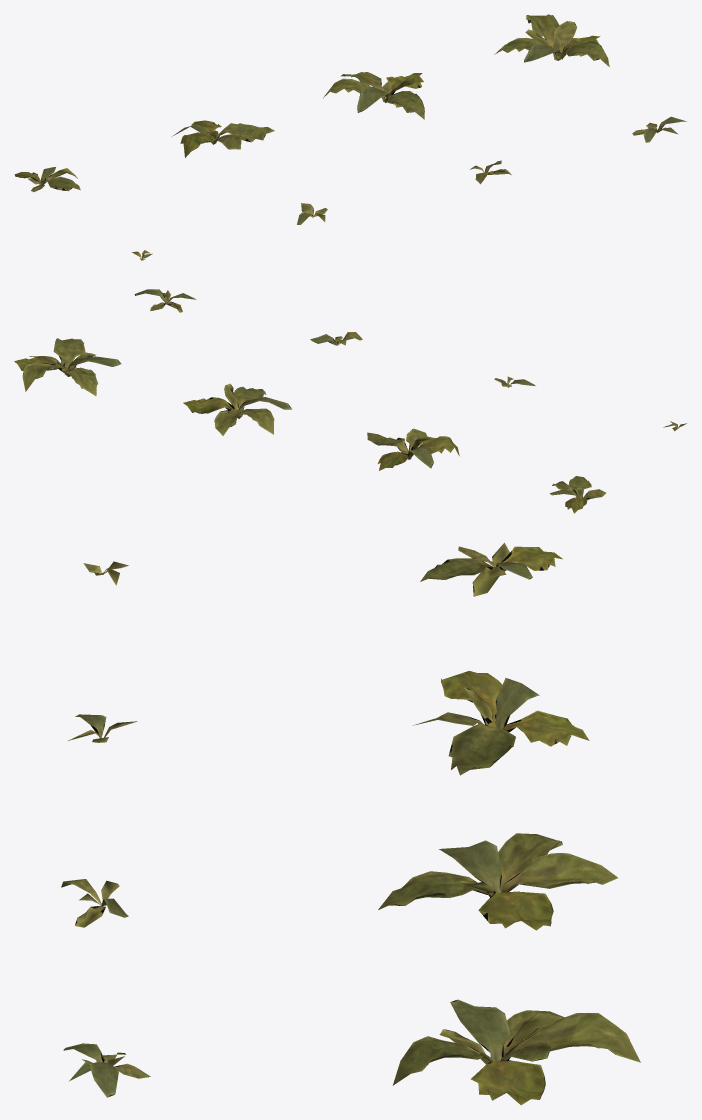
Rendered from crystalline_iceplant.glb.
3 views of the same model, one above another, from view 1: azimuth 30°, elevation 25°; view 2: azimuth 150°, elevation 25°; view 3: azimuth 270°, elevation 25° (orthographic). The views are drawn at different scales.
Visible parts, largest first — view 1: crystalline_iceplant_a_LOD0; view 2: crystalline_iceplant_a_LOD0; view 3: crystalline_iceplant_a_LOD0.
Boxes of the visible parts, x1=… form: crystalline_iceplant_a_LOD0: x1=14, y1=14, x2=686, y2=260; crystalline_iceplant_a_LOD0: x1=14, y1=289, x2=686, y2=513; crystalline_iceplant_a_LOD0: x1=61, y1=542, x2=640, y2=1105.
Bounding box in the file's own units: 1.69 × 0.0821 × 0.7368.
Materials: 1 (1 with a texture image).
